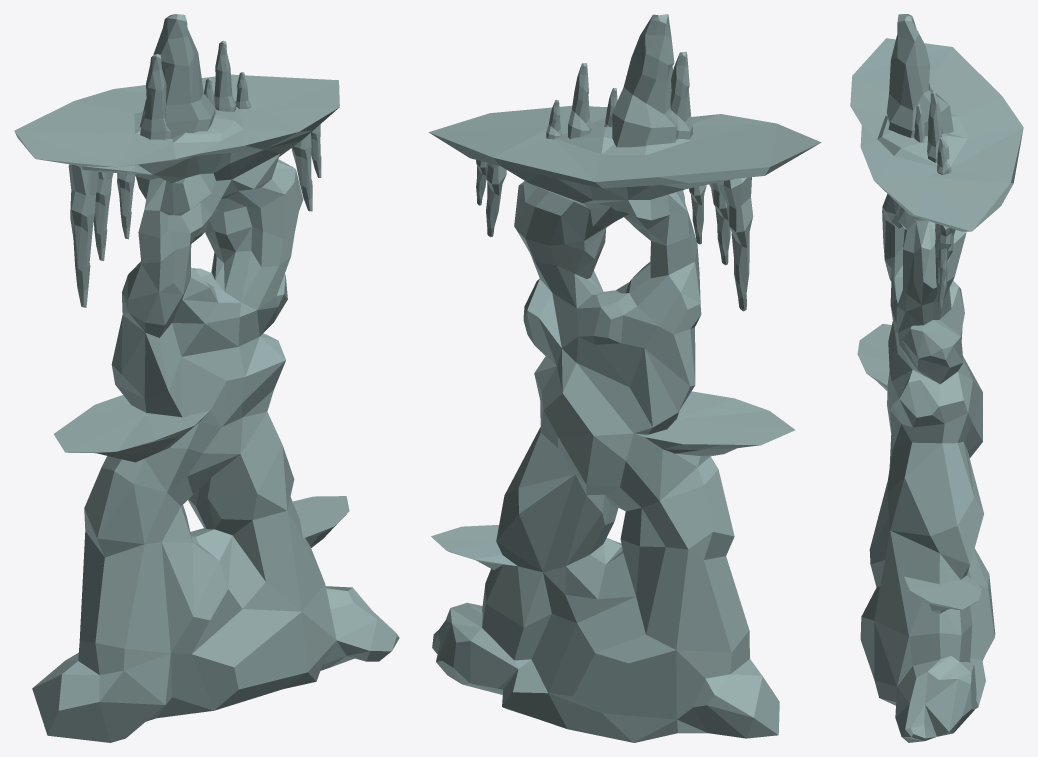
The model's file is HolePillar1.fbx.
The picture shows the model from 3 angles, left to right: view 1: azimuth 30°, elevation 25°; view 2: azimuth 150°, elevation 25°; view 3: azimuth 270°, elevation 25°; orthographic projection. The views are drawn at different scales.
Visible parts, largest first — view 1: HolePillar1_3_salactites_5_5; view 2: HolePillar1_3_salactites_5_5; view 3: HolePillar1_3_salactites_5_5.
Part boxes in pixels (x1,y1,x2,y2): HolePillar1_3_salactites_5_5: [14, 14, 399, 742]; HolePillar1_3_salactites_5_5: [428, 14, 821, 742]; HolePillar1_3_salactites_5_5: [850, 14, 1023, 742].
Size of the model in its own units: 29665 by 53845 by 12894.
